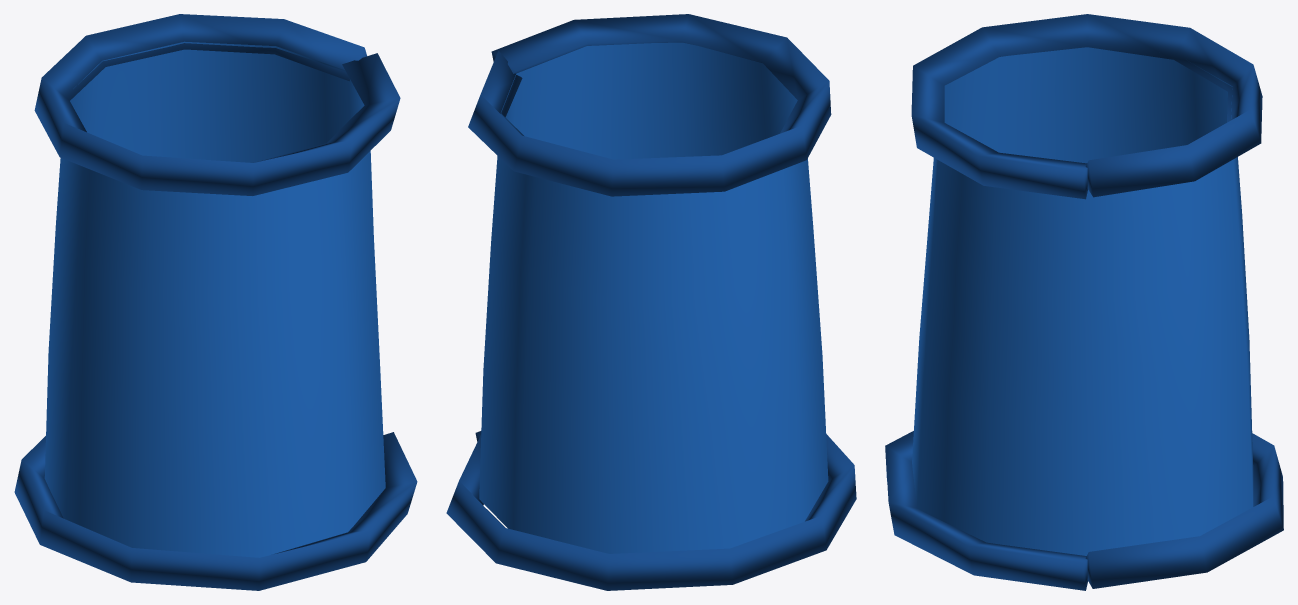
Rendered from cobalt_armor_bracer.L.glb.
3 renders of one model, left to right at view 1: azimuth 30°, elevation 25°; view 2: azimuth 150°, elevation 25°; view 3: azimuth 270°, elevation 25°, orthographic.
Parts seen in each view (by area): view 1: cobalt_armor_bracer.L; view 2: cobalt_armor_bracer.L; view 3: cobalt_armor_bracer.L.
Boxes of the visible parts, <box> form: cobalt_armor_bracer.L: <box>14,14,417,590</box>; cobalt_armor_bracer.L: <box>446,14,856,590</box>; cobalt_armor_bracer.L: <box>885,14,1283,590</box>.
Size of the model in its own units: 0.1504 by 0.1719 by 0.1471.
